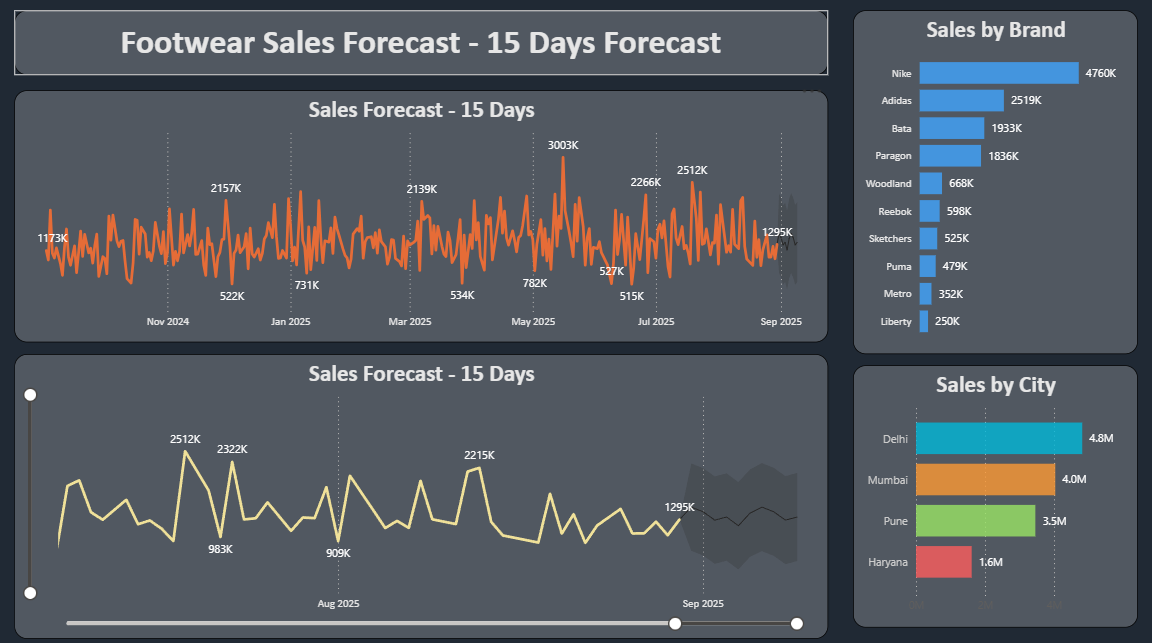

What the dashboard file says about the page in this screenshot:
{"tool":"powerbi","page":{"name":"Page 2","canvas":[1280,720],"ordinal":1},"visuals":[{"type":"lineChart","title":"Sales Forecast - 15 Days","fields":{"Category":["Sheet1.Date"],"Y":["Sum(Sheet1.Total Revenue)"]},"box":[23.3,111.1,893.3,277.2],"z":0},{"type":"lineChart","title":"Sales Forecast - 15 Days","fields":{"Y":["Sum(Sheet1.Total Revenue)"],"Category":["Sheet1.Date"]},"box":[23.3,400.7,893.3,312.9],"z":1000},{"type":"barChart","title":"Sales by City","fields":{"Category":["Sheet1.City"],"Y":["Sum(Sheet1.Unit Price)"]},"box":[944.1,413,312.9,288.2],"z":2000},{"type":"clusteredBarChart","title":"Sales by Brand","fields":{"Category":["Sheet1.Brand"],"Y":["Sum(Sheet1.Unit Price)"]},"box":[944.1,23.3,312.9,377.4],"z":3000},{"type":"textbox","box":[23.3,23.3,893.3,71.4],"z":4000}]}

Visuals, with their boxes in screenshot pixels (x1, y1, x2, y2), scaled from the page's 1280x720 canvas onto the 1152x643 screenshot:
"Sales Forecast - 15 Days" lineChart: [x1=21, y1=99, x2=825, y2=347]
"Sales Forecast - 15 Days" lineChart: [x1=21, y1=358, x2=825, y2=637]
"Sales by City" barChart: [x1=850, y1=369, x2=1131, y2=626]
"Sales by Brand" clusteredBarChart: [x1=850, y1=21, x2=1131, y2=358]
textbox: [x1=21, y1=21, x2=825, y2=85]
